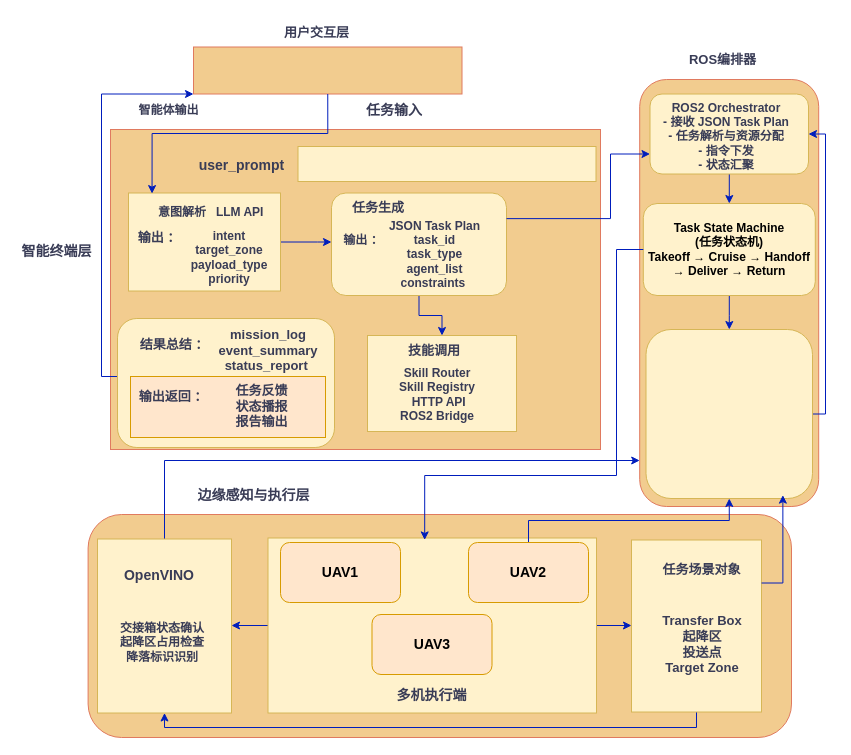
Some shapes in this 851 by 755 pixel diagram are drawn without their labels. The box of each missing label's shape, as (x1, y1, x2, y2) in pixels:
OpenClaw 智能终端（LLM Agent + Tool Calling）: (297, 146, 596, 182)
异常监测与重规划 - 低电量 - 链路异常 - 交接失败 - 路径阻塞 输出： - 备机接替 - 备用交接点切换 - 任务重规划: (645, 328, 812, 498)
用户自然语言输入（语音输入）: (192, 46, 462, 94)
